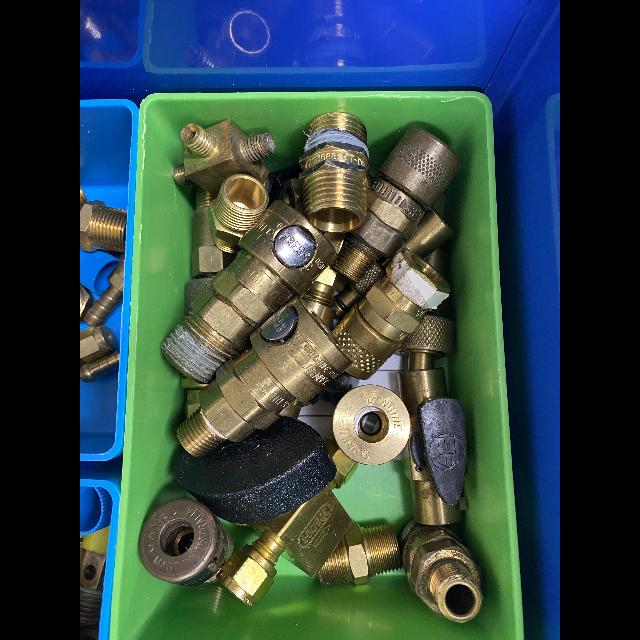Brass: (163, 201, 337, 383), (179, 297, 353, 456), (217, 438, 358, 608), (334, 128, 461, 281), (333, 251, 450, 379), (396, 316, 460, 524), (337, 210, 453, 319), (299, 113, 370, 232), (139, 499, 234, 587), (400, 520, 481, 622), (174, 120, 275, 196), (334, 386, 409, 465), (319, 524, 401, 585), (208, 174, 268, 252), (83, 255, 123, 326), (192, 189, 222, 277), (81, 200, 127, 252), (80, 326, 116, 362), (81, 352, 119, 382)
